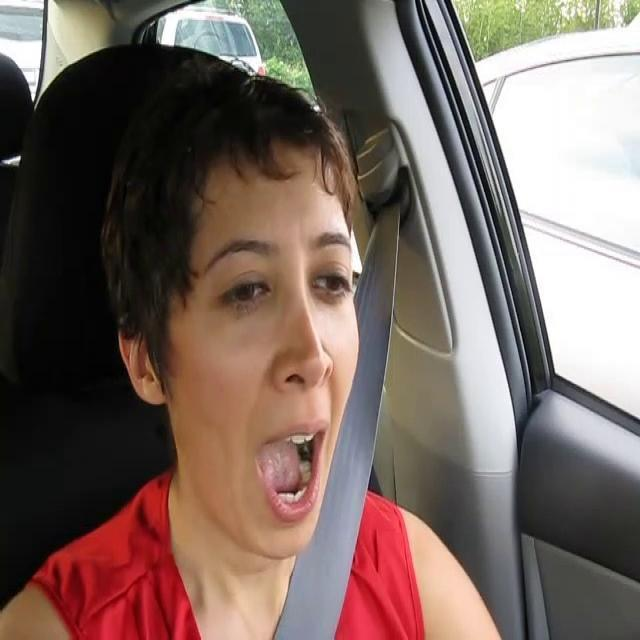open-mouth: (250, 418, 332, 526)
